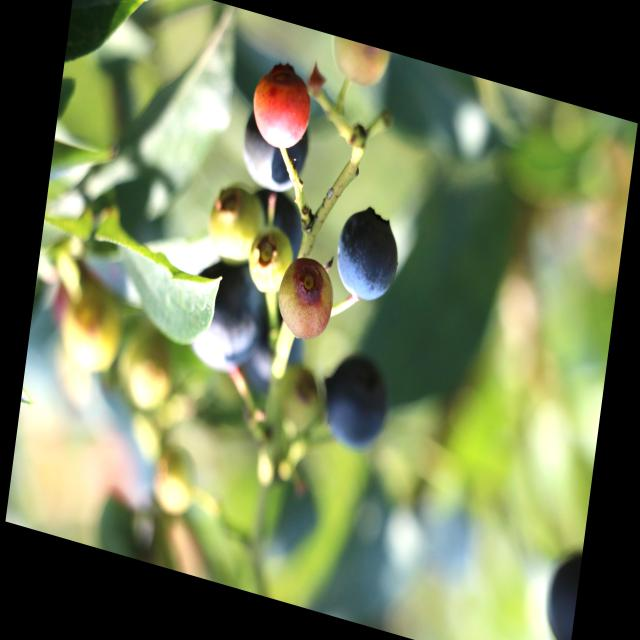blueberry: (174, 240, 278, 389), (311, 335, 397, 461), (231, 91, 317, 210), (330, 196, 413, 315), (237, 295, 316, 406), (239, 176, 314, 272)
blueberry-halfripe: (248, 55, 318, 158), (273, 258, 335, 346)
blueberry-unripe: (59, 286, 124, 378), (202, 179, 267, 268), (145, 438, 200, 522), (246, 225, 296, 303), (327, 34, 391, 92)
